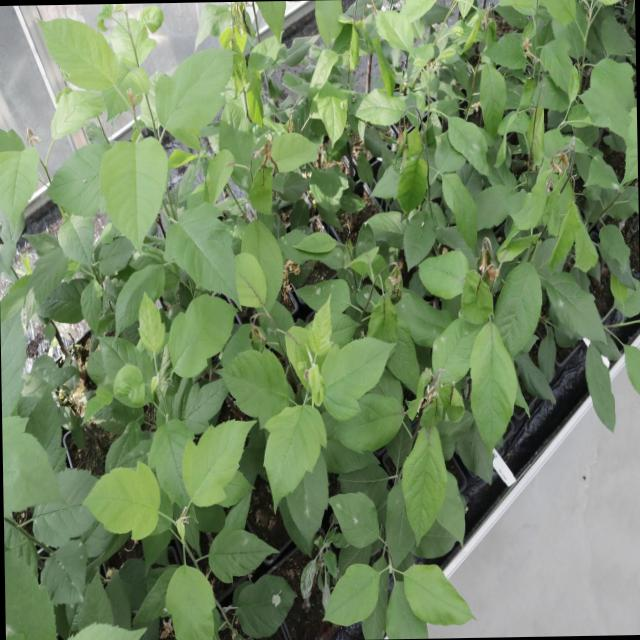-FireBlight-: (252, 134, 276, 178), (278, 258, 302, 298)
